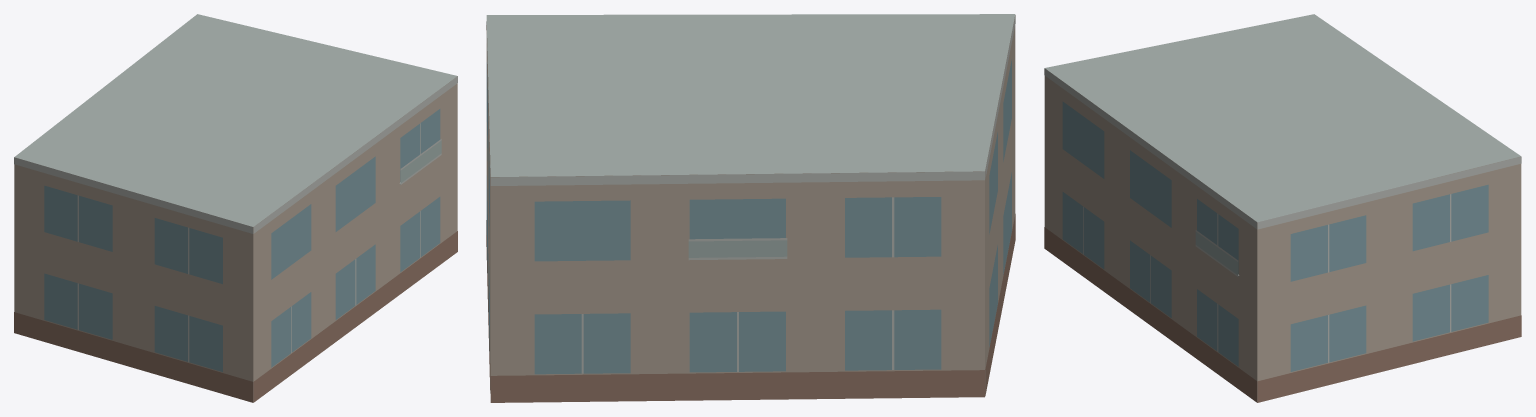
File: survey-upis-32893151.glb
3 renders of one model, left to right at view 1: azimuth 30°, elevation 25°; view 2: azimuth 150°, elevation 25°; view 3: azimuth 270°, elevation 25°, orthographic. The views are drawn at different scales.
Visible parts, largest first — view 1: survey-upis-32893151.tmp; view 2: survey-upis-32893151.tmp; view 3: survey-upis-32893151.tmp.
Boxes of the visible parts, x1,y1,x2,y2 form: survey-upis-32893151.tmp: [14, 14, 457, 402]; survey-upis-32893151.tmp: [486, 14, 1015, 402]; survey-upis-32893151.tmp: [1044, 14, 1521, 402].
Size of the model in its own units: 15.11 by 6.1 by 14.62.
